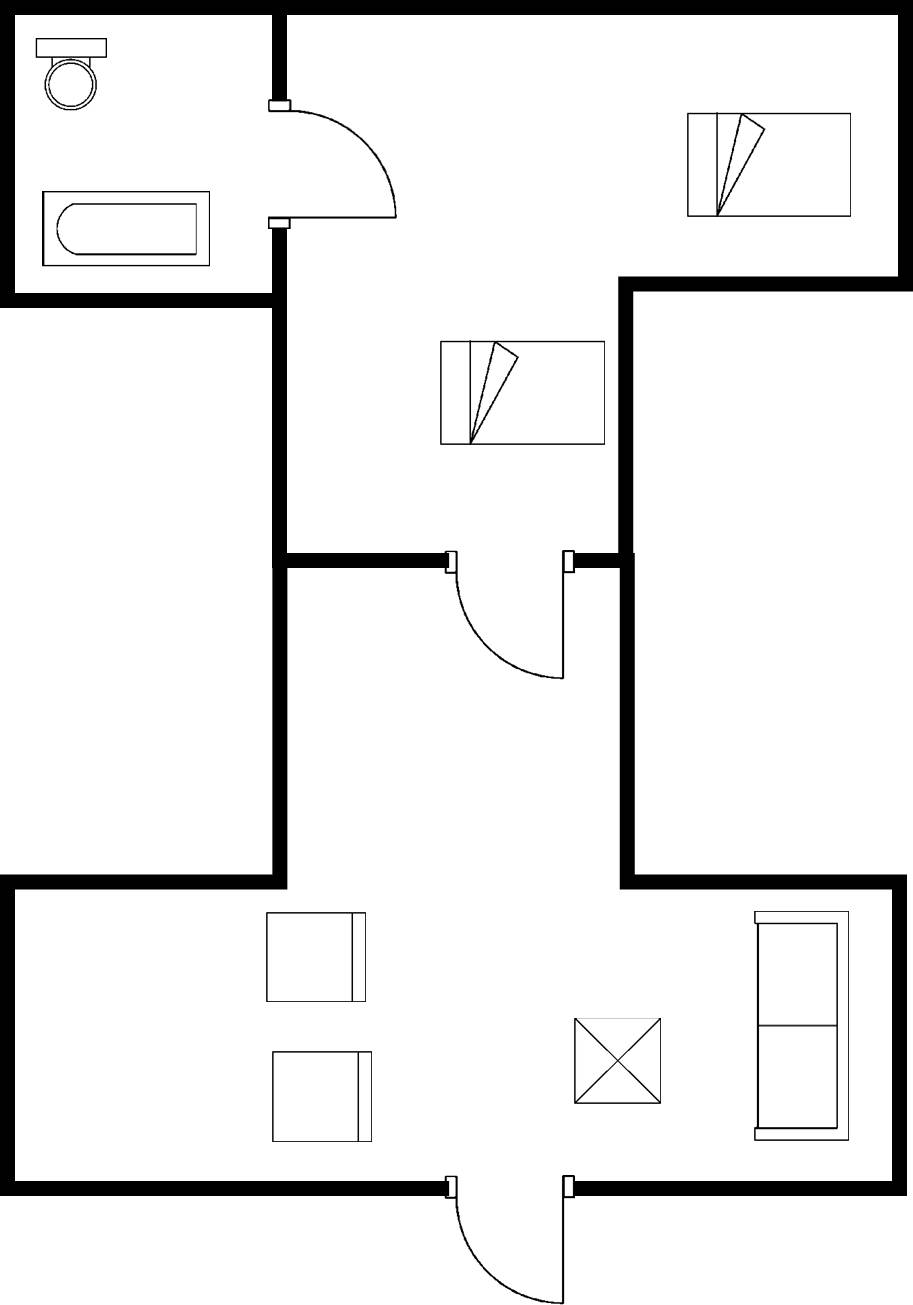bed: (427, 329, 613, 455), (675, 105, 859, 228)
coffee_table: (562, 1008, 672, 1110)
large_sink: (28, 32, 119, 119)
large_sofa: (740, 898, 861, 1155)
small_sofa: (254, 902, 376, 1012), (263, 1042, 381, 1150)
tub: (35, 185, 220, 277)
